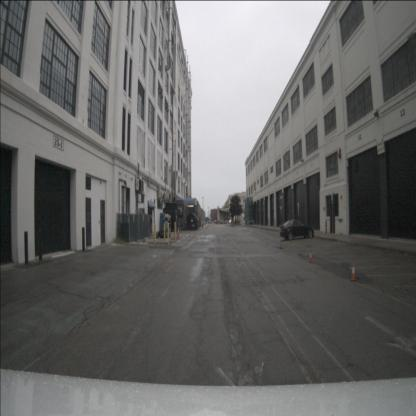cone: (349, 263, 357, 283), (308, 249, 314, 264), (278, 240, 284, 249), (176, 228, 180, 238)
